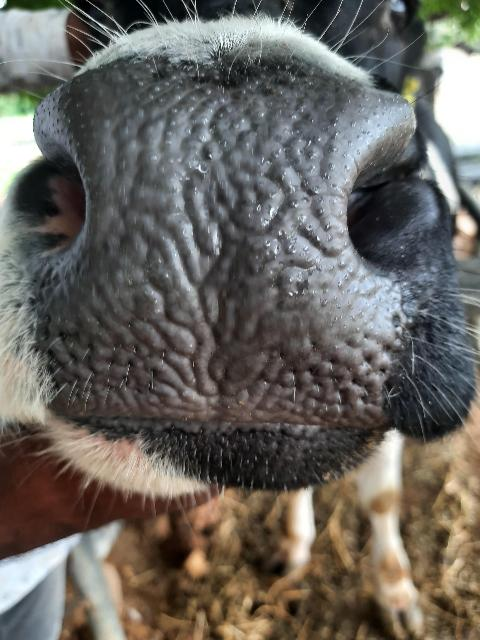Muzzle: (72, 88, 386, 468)
